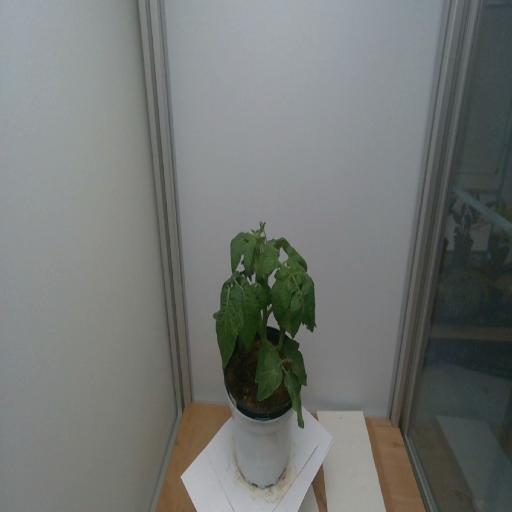Tomato-Leaves-Cupboard-: (209, 283, 243, 373), (254, 347, 282, 405), (282, 382, 304, 440), (242, 287, 259, 351), (285, 342, 310, 382), (302, 295, 324, 336), (281, 240, 312, 268), (271, 280, 288, 328), (229, 232, 246, 270), (260, 246, 280, 278), (296, 272, 312, 296), (246, 236, 256, 272), (223, 269, 240, 283), (291, 292, 302, 312), (278, 263, 288, 276)
